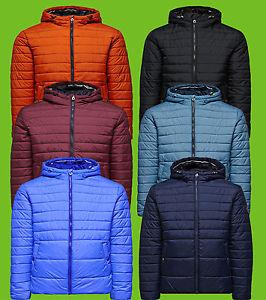C_jacket: (7, 154, 136, 300), (6, 3, 136, 138), (137, 156, 256, 299), (133, 81, 255, 215), (10, 78, 135, 204), (143, 2, 255, 133)
